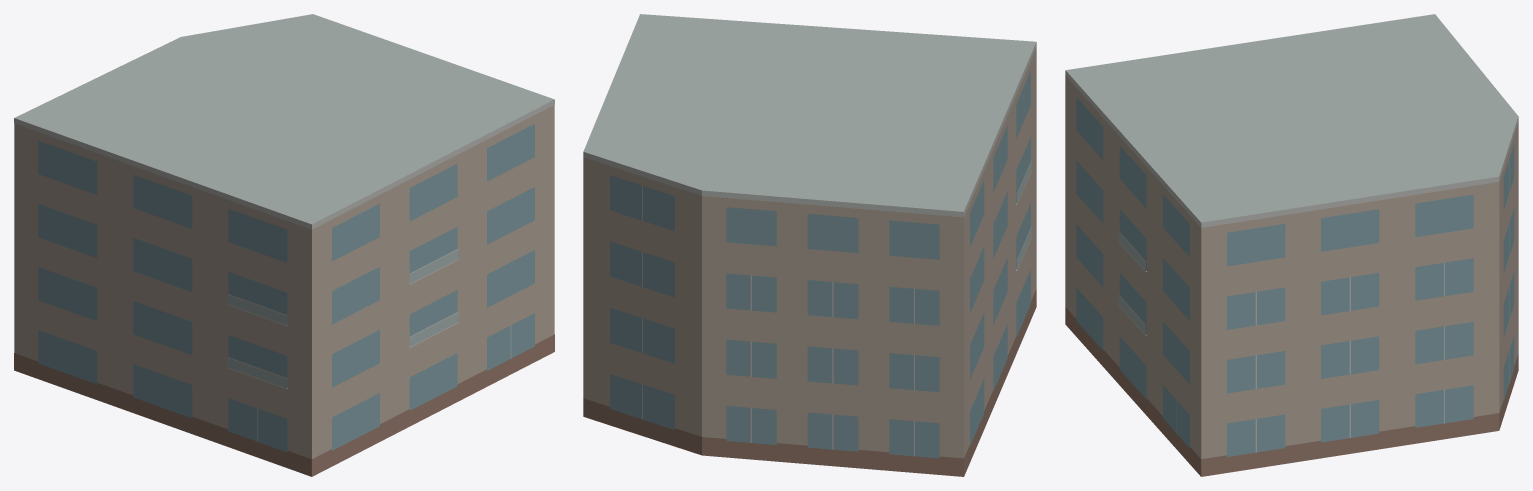
Rendered from survey-upis-33024864.glb.
3 views of the same model, side by side, from view 1: azimuth 30°, elevation 25°; view 2: azimuth 150°, elevation 25°; view 3: azimuth 270°, elevation 25° (orthographic). The views are drawn at different scales.
Visible parts, largest first — view 1: survey-upis-33024864.tmp; view 2: survey-upis-33024864.tmp; view 3: survey-upis-33024864.tmp.
Part boxes in pixels (x1,y1,x2,y2): survey-upis-33024864.tmp: (14,14,554,476); survey-upis-33024864.tmp: (583,14,1036,476); survey-upis-33024864.tmp: (1065,14,1518,476).
Size of the model in its own units: 20.6 by 11.7 by 18.91.
